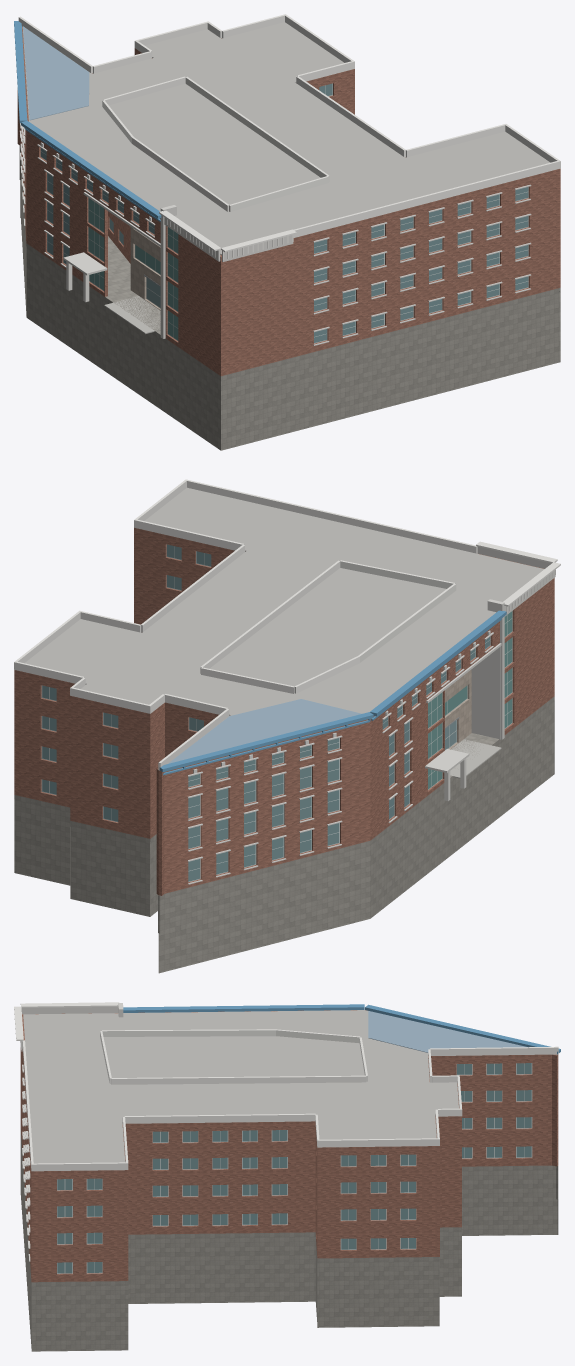
3 views of the same model, one above another, from view 1: azimuth 30°, elevation 25°; view 2: azimuth 150°, elevation 25°; view 3: azimuth 270°, elevation 25° (orthographic). The views are drawn at different scales.
Parts seen in each view (by area): view 1: euncheon__roof, euncheon__brick, euncheon__skirt, euncheon__cap, euncheon__glass, euncheon__portaltrim, euncheon__slateroof, euncheon__plinth, euncheon__curtainglass, euncheon__skyband, euncheon__frame, euncheon__recesswall (+2 smaller); view 2: euncheon__roof, euncheon__brick, euncheon__skirt, euncheon__cap, euncheon__glass, euncheon__portaltrim, euncheon__slateroof, euncheon__skyband, euncheon__foundation, euncheon__frame, euncheon__plinth, euncheon__curtainglass (+2 smaller); view 3: euncheon__brick, euncheon__roof, euncheon__skirt, euncheon__cap, euncheon__glass, euncheon__slateroof, euncheon__frame, euncheon__foundation, euncheon__skyband, euncheon__plinth, euncheon__portaltrim.
Boxes of the visible parts, x1=… form: euncheon__roof: x1=22, y1=22, x2=549, y2=255; euncheon__brick: x1=17, y1=27, x2=560, y2=376; euncheon__skirt: x1=20, y1=180, x2=560, y2=450; euncheon__cap: x1=18, y1=14, x2=560, y2=260; euncheon__glass: x1=41, y1=83, x2=528, y2=342; euncheon__portaltrim: x1=19, y1=123, x2=531, y2=345; euncheon__slateroof: x1=23, y1=26, x2=89, y2=120; euncheon__plinth: x1=20, y1=149, x2=560, y2=379; euncheon__curtainglass: x1=88, y1=198, x2=178, y2=340; euncheon__skyband: x1=14, y1=21, x2=161, y2=221; euncheon__frame: x1=40, y1=83, x2=528, y2=343; euncheon__recesswall: x1=130, y1=227, x2=160, y2=310; euncheon__roof: x1=25, y1=487, x2=544, y2=737; euncheon__brick: x1=14, y1=527, x2=554, y2=895; euncheon__skirt: x1=14, y1=700, x2=554, y2=973; euncheon__cap: x1=14, y1=479, x2=560, y2=770; euncheon__glass: x1=42, y1=544, x2=490, y2=881; euncheon__portaltrim: x1=187, y1=546, x2=555, y2=884; euncheon__slateroof: x1=168, y1=699, x2=361, y2=763; euncheon__skyband: x1=159, y1=610, x2=506, y2=775; euncheon__foundation: x1=14, y1=699, x2=554, y2=933; euncheon__frame: x1=41, y1=544, x2=512, y2=881; euncheon__plinth: x1=14, y1=696, x2=554, y2=897; euncheon__curtainglass: x1=428, y1=611, x2=512, y2=789; euncheon__brick: x1=20, y1=1010, x2=558, y2=1282; euncheon__roof: x1=23, y1=1010, x2=458, y2=1163; euncheon__skirt: x1=20, y1=1131, x2=558, y2=1351; euncheon__cap: x1=14, y1=1002, x2=558, y2=1171; euncheon__glass: x1=57, y1=1063, x2=531, y2=1273; euncheon__slateroof: x1=368, y1=1011, x2=527, y2=1052; euncheon__frame: x1=57, y1=1063, x2=532, y2=1273; euncheon__foundation: x1=31, y1=1166, x2=558, y2=1285; euncheon__skyband: x1=123, y1=1004, x2=560, y2=1054; euncheon__plinth: x1=20, y1=1130, x2=556, y2=1284; euncheon__portaltrim: x1=21, y1=1003, x2=123, y2=1261.
Size of the model in its own units: 48.44 by 25.23 by 66.03.
16 materials, 5 textured.
